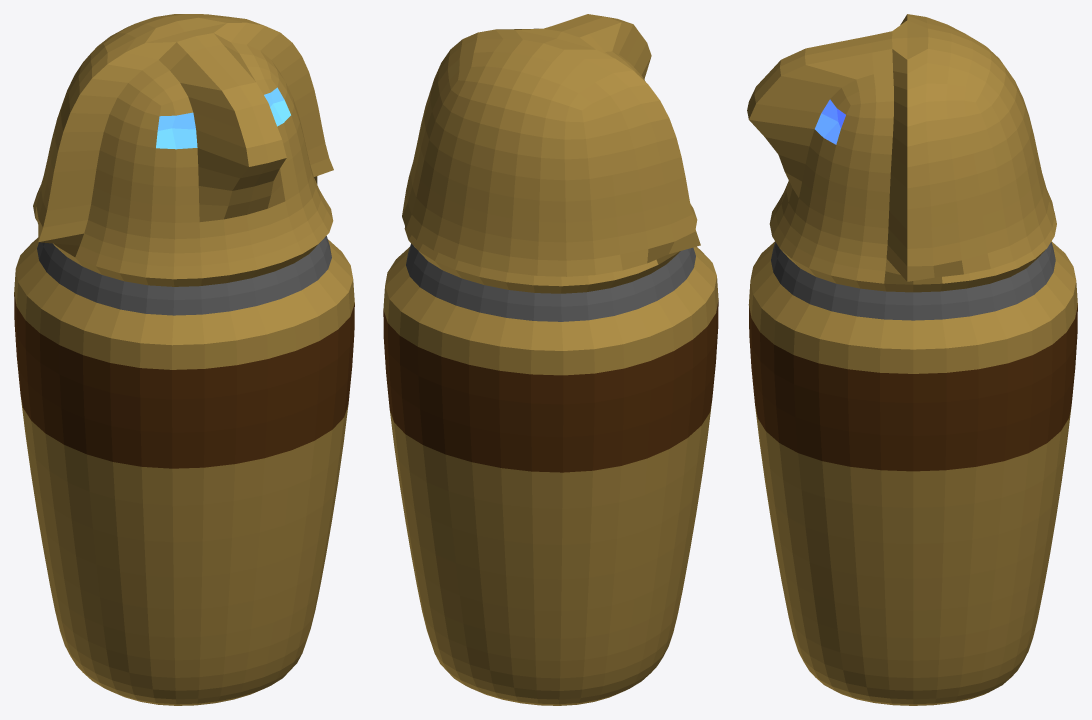
The model's file is Falcon.fbx.
3 renders of one model, left to right at view 1: azimuth 30°, elevation 25°; view 2: azimuth 150°, elevation 25°; view 3: azimuth 270°, elevation 25°, orthographic.
Visible parts, largest first — view 1: Cube.001; view 2: Cube.001; view 3: Cube.001.
Part boxes in pixels (x1,y1,x2,y2): Cube.001: [14, 14, 354, 705]; Cube.001: [383, 14, 718, 705]; Cube.001: [747, 14, 1077, 705].
Bounding box in the file's own units: 177 × 369 × 174.
